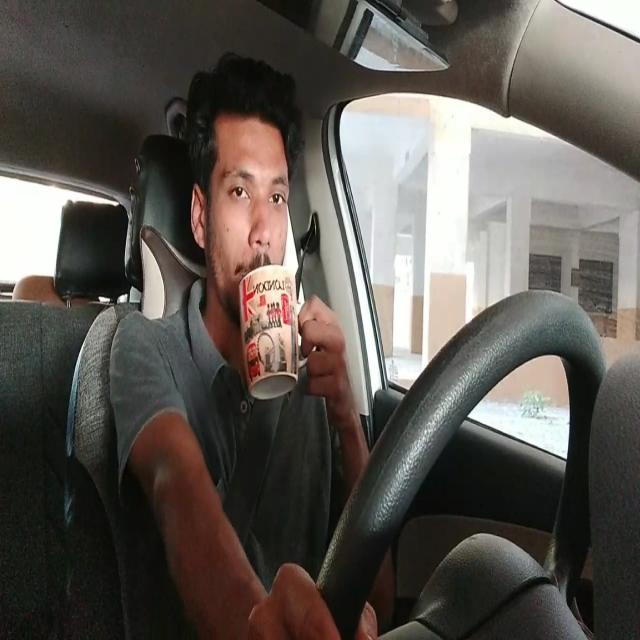Drinking: (238, 264, 329, 400)
